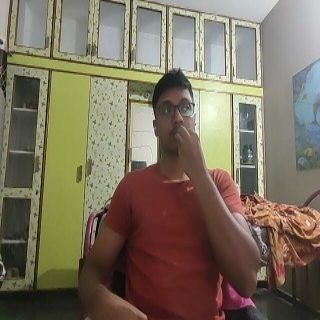Food: (171, 124, 208, 191)
